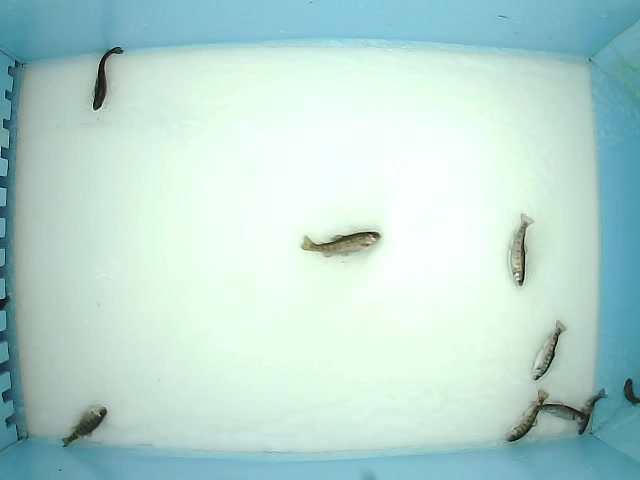fish: (88, 44, 129, 112), (529, 319, 569, 382), (504, 389, 550, 443), (59, 405, 112, 450), (507, 211, 538, 287), (300, 231, 382, 259), (576, 386, 608, 436), (534, 398, 591, 423)
